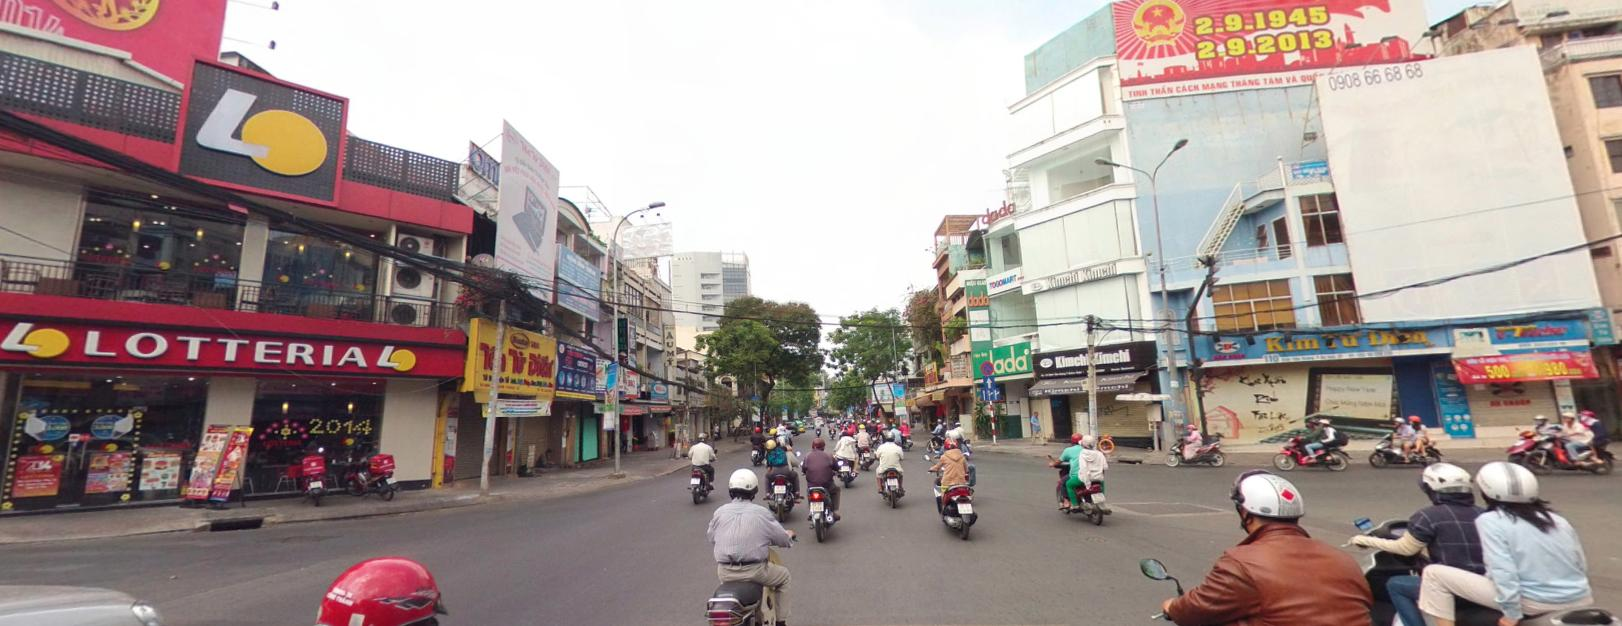Cam dung va do: (980, 359, 993, 372), (980, 360, 993, 372)
